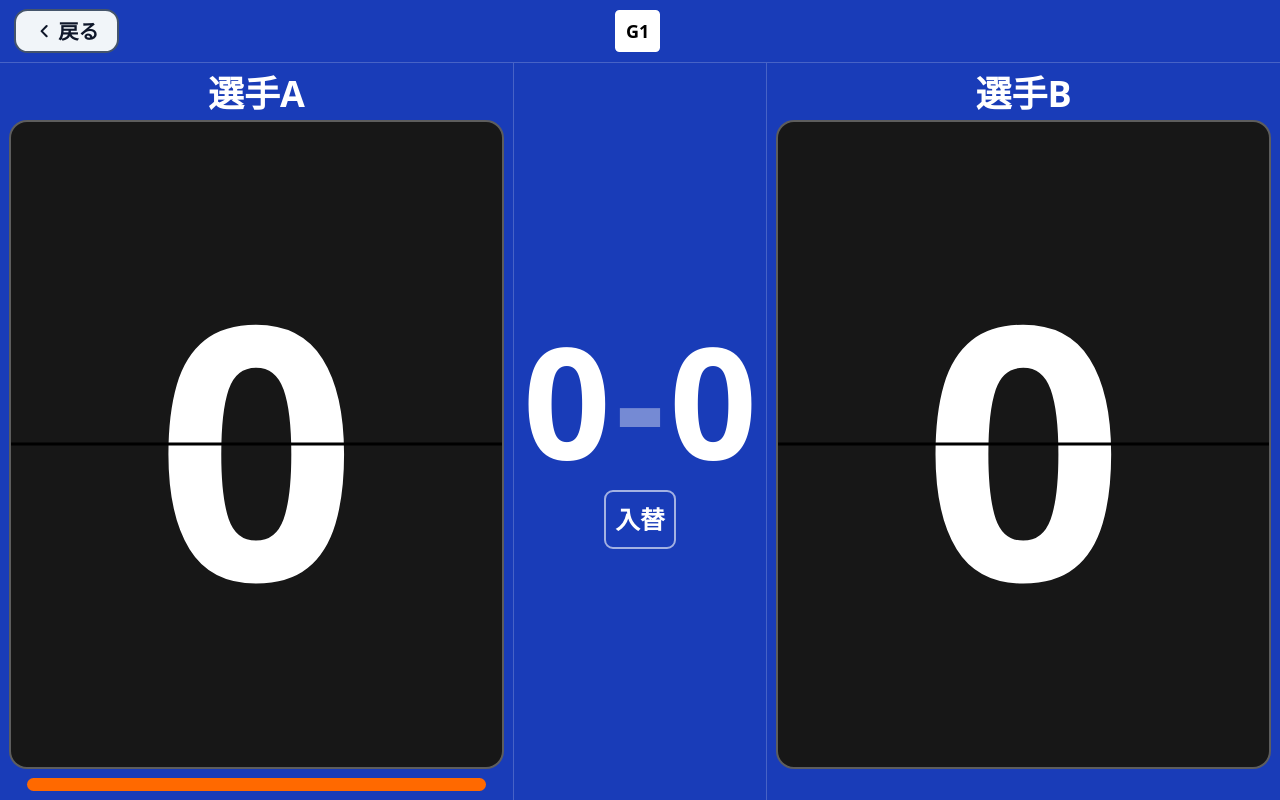
Test: ScoreboardScreen › 左加点ボタンで左スコアがインクリメントされる
Click the button named "選手A を1増やす".
click(256, 283)  # box [11,122,502,444]
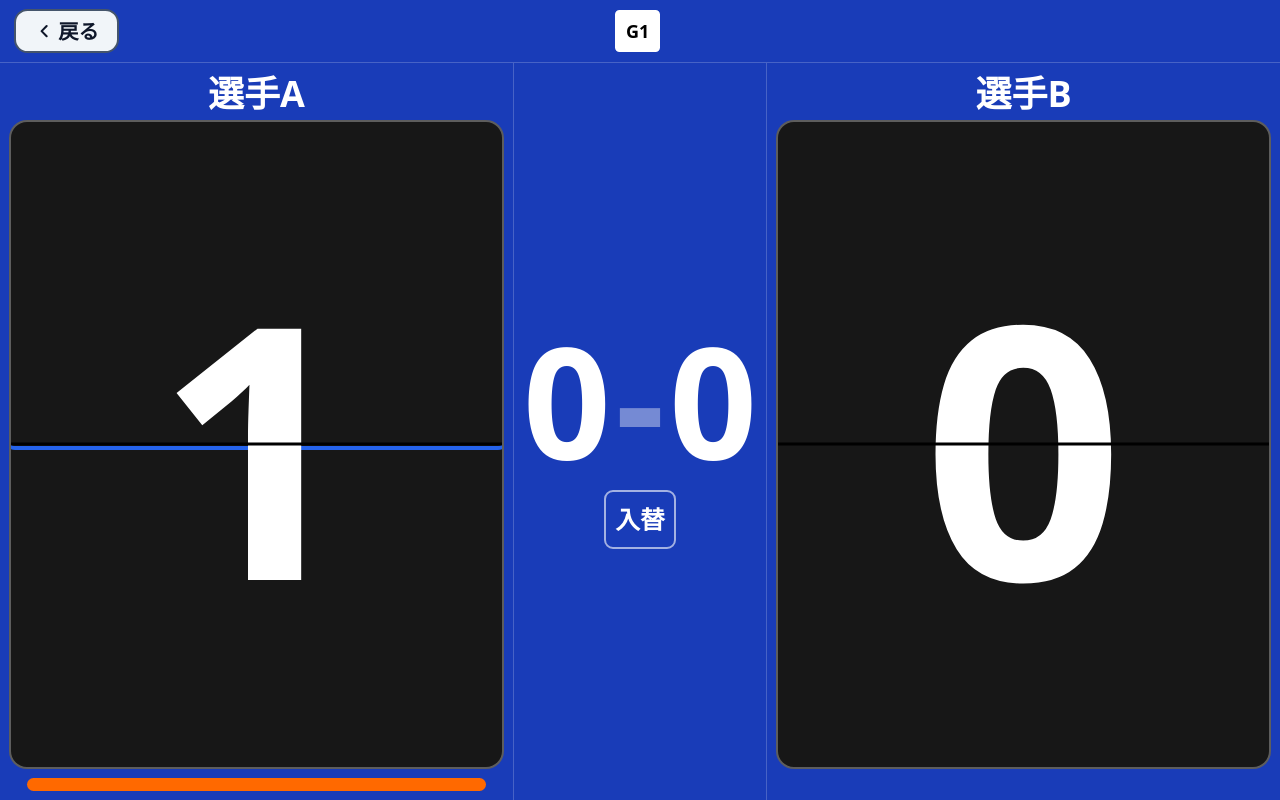
Expected: the text "1" is shown, [156,268,357,620]
